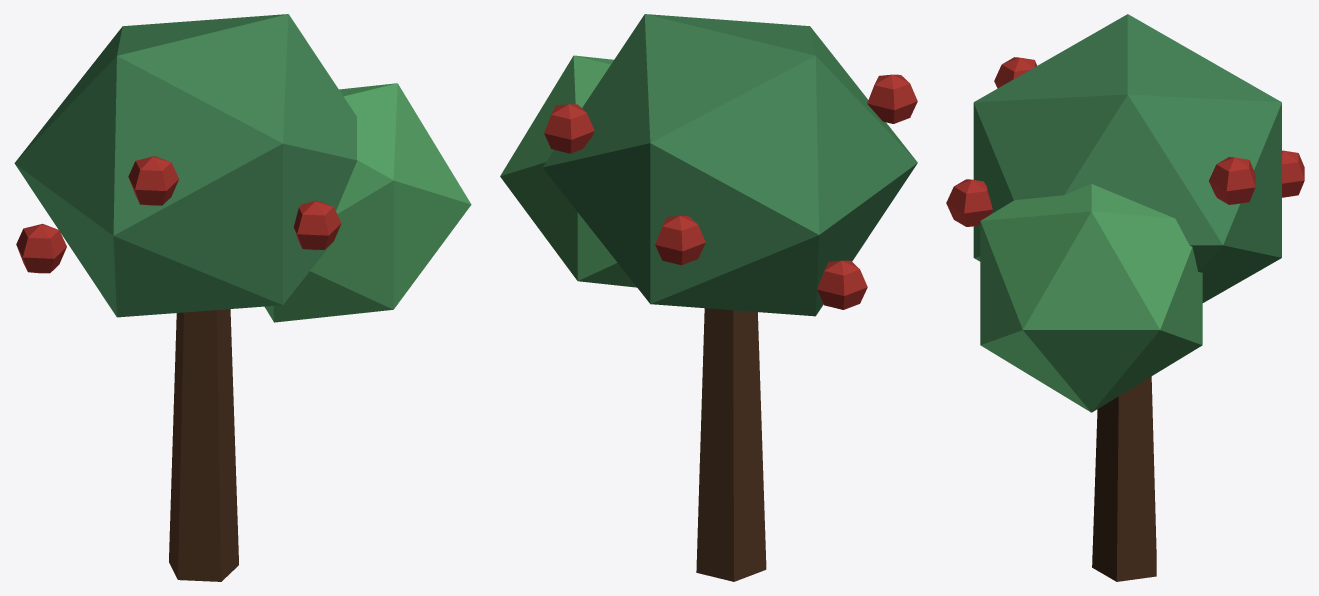
File: crop_apple_s3.glb
3 views of the same model, side by side, from view 1: azimuth 30°, elevation 25°; view 2: azimuth 150°, elevation 25°; view 3: azimuth 270°, elevation 25° (orthographic). The views are drawn at different scales.
Visible parts, largest first — view 1: crop_apple_s3; view 2: crop_apple_s3; view 3: crop_apple_s3.
Boxes of the visible parts, box(x1,y1,x2,y2) form: crop_apple_s3: box(14, 14, 471, 581); crop_apple_s3: box(500, 14, 917, 581); crop_apple_s3: box(946, 14, 1304, 581).
Size of the model in its own units: 0.8004 by 1.09 by 0.6921.
